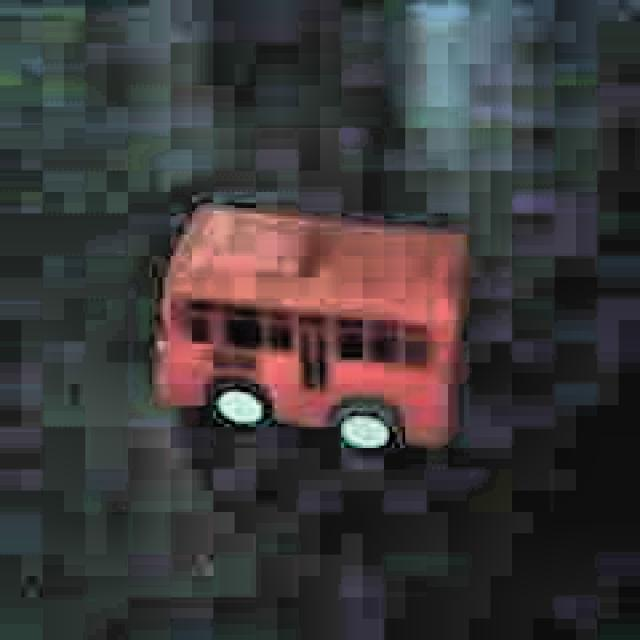bus: (144, 198, 472, 458)
